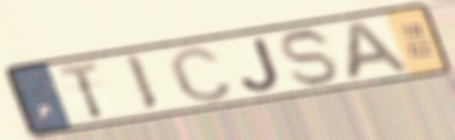A: (343, 18, 416, 84)
C: (165, 44, 237, 104)
I: (122, 52, 163, 114)
J: (238, 35, 284, 93)
S: (279, 26, 343, 89)
T: (54, 59, 107, 122)
